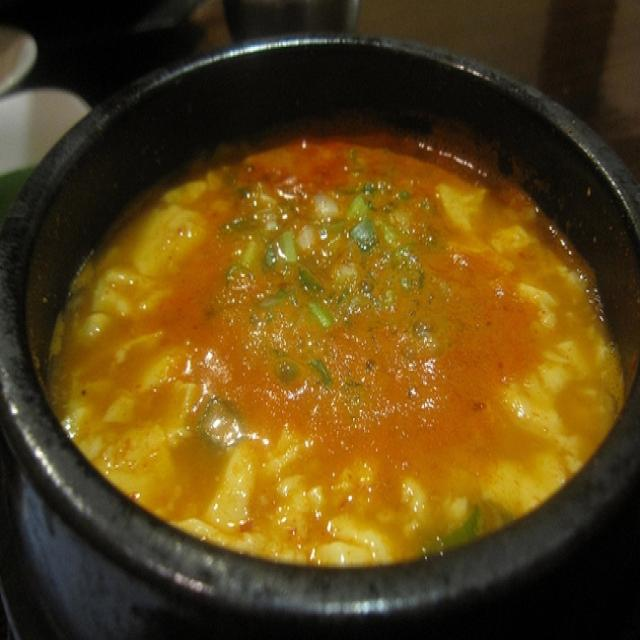汤锅炖物: (7, 42, 632, 609)
